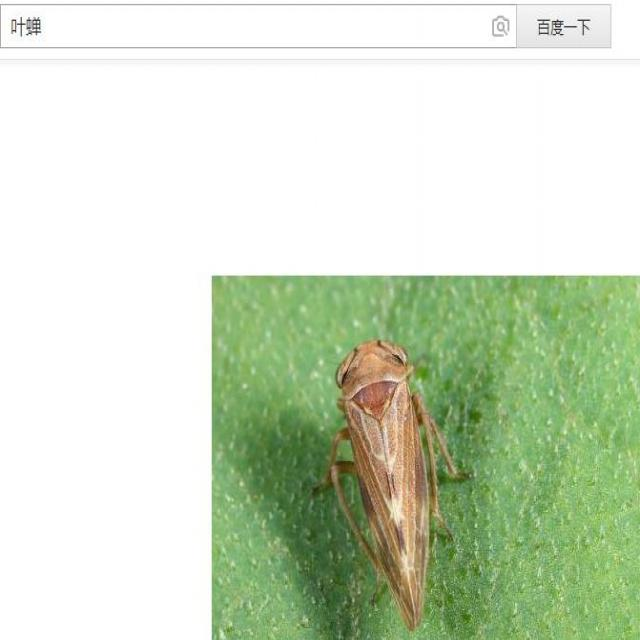Yechan: (322, 325, 451, 623)
